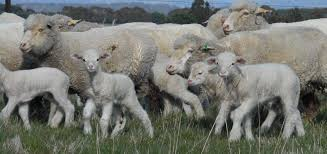sheep: (169, 29, 327, 110), (23, 17, 152, 90), (216, 51, 304, 140), (82, 53, 149, 139), (1, 64, 75, 115), (190, 58, 218, 103)
